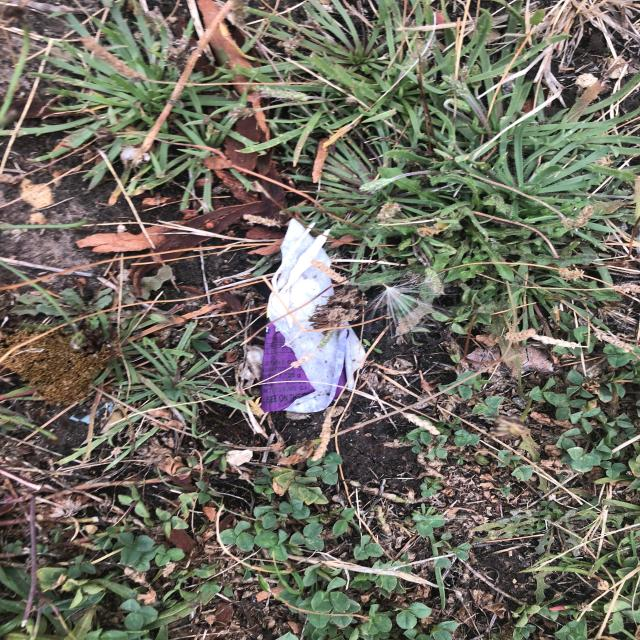litter: (261, 222, 365, 416)
